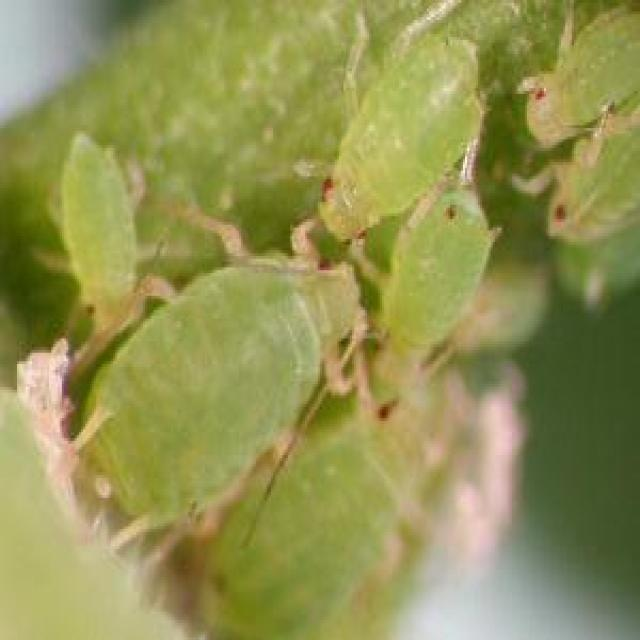aphid: (26, 233, 373, 566), (284, 37, 484, 242), (348, 188, 495, 432), (37, 130, 148, 342), (517, 0, 640, 176), (536, 108, 640, 252)
